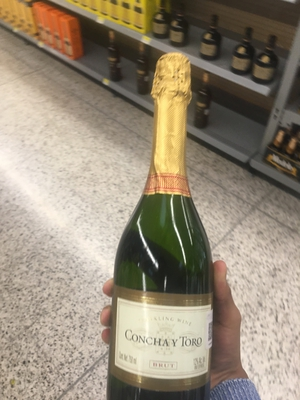brut: (98, 69, 234, 400)
